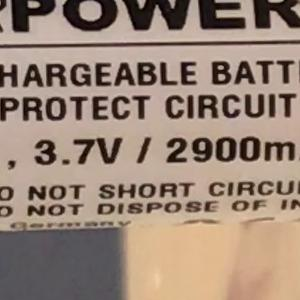3.7V: (24, 127, 132, 175)
